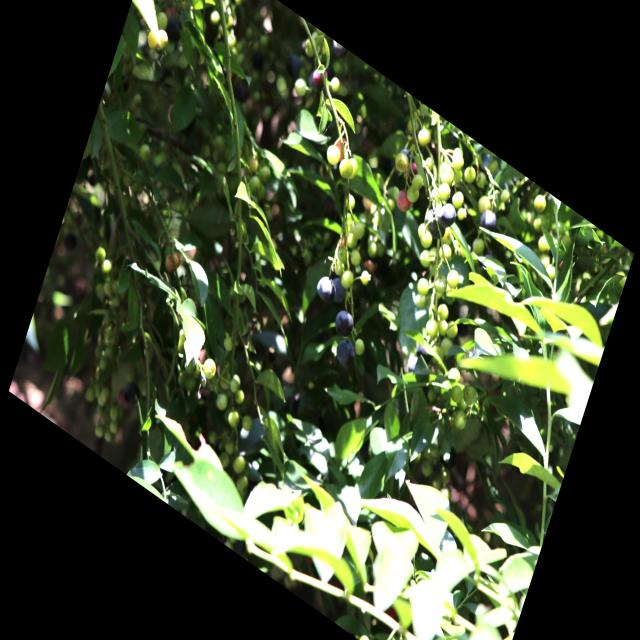blueberry: (313, 270, 340, 308), (332, 333, 358, 371), (332, 305, 358, 342), (435, 197, 458, 232), (478, 204, 502, 237), (328, 274, 350, 308), (422, 203, 443, 235), (429, 217, 447, 243), (399, 144, 417, 166)
blueberry-halfripe: (394, 187, 414, 215)
blueberry-unripe: (200, 354, 218, 381), (324, 142, 342, 168), (336, 156, 354, 182), (452, 406, 469, 432), (416, 224, 434, 248), (232, 451, 248, 477), (437, 240, 454, 264), (339, 266, 355, 290), (462, 385, 478, 409), (444, 267, 460, 290), (424, 316, 440, 339), (444, 318, 460, 340), (433, 271, 448, 294), (344, 230, 359, 252), (226, 408, 241, 430), (351, 219, 366, 240), (215, 390, 229, 412), (347, 157, 360, 180), (438, 182, 452, 203), (451, 188, 465, 209), (416, 275, 430, 296), (449, 382, 463, 403), (343, 190, 357, 210), (419, 250, 433, 269), (348, 250, 362, 268), (411, 172, 424, 191), (407, 184, 420, 203), (436, 303, 449, 321), (359, 267, 371, 286), (337, 247, 350, 263), (334, 259, 344, 276), (457, 206, 467, 220)
